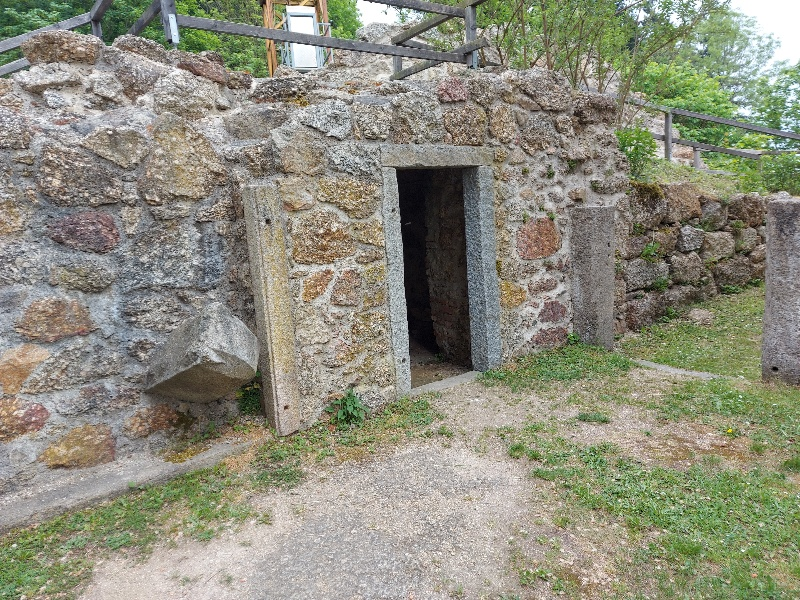door2: (366, 130, 523, 399)
